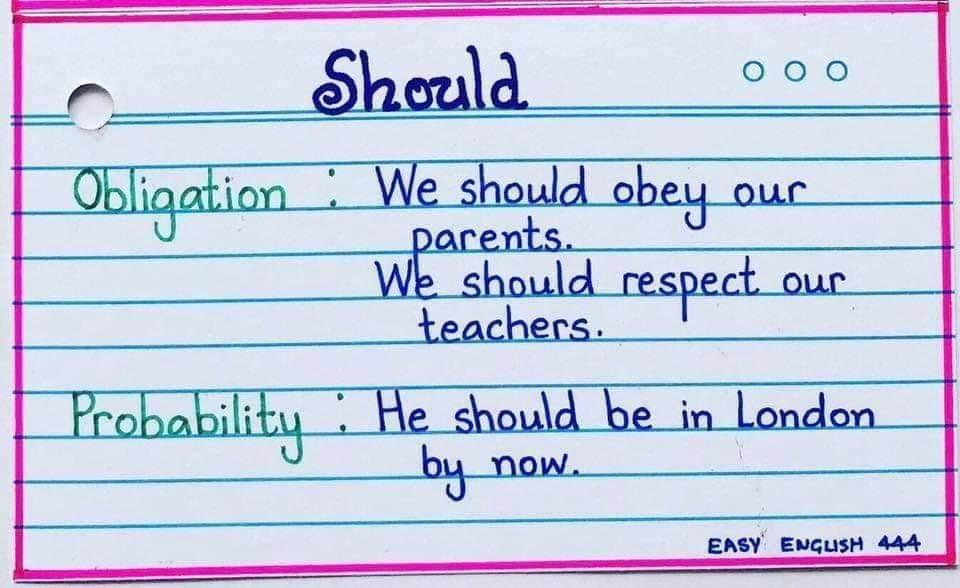text: (72, 160, 808, 247), (70, 387, 878, 465), (375, 255, 847, 322), (309, 44, 530, 117), (408, 212, 575, 274), (421, 442, 581, 503), (418, 303, 605, 348), (706, 532, 923, 557)
